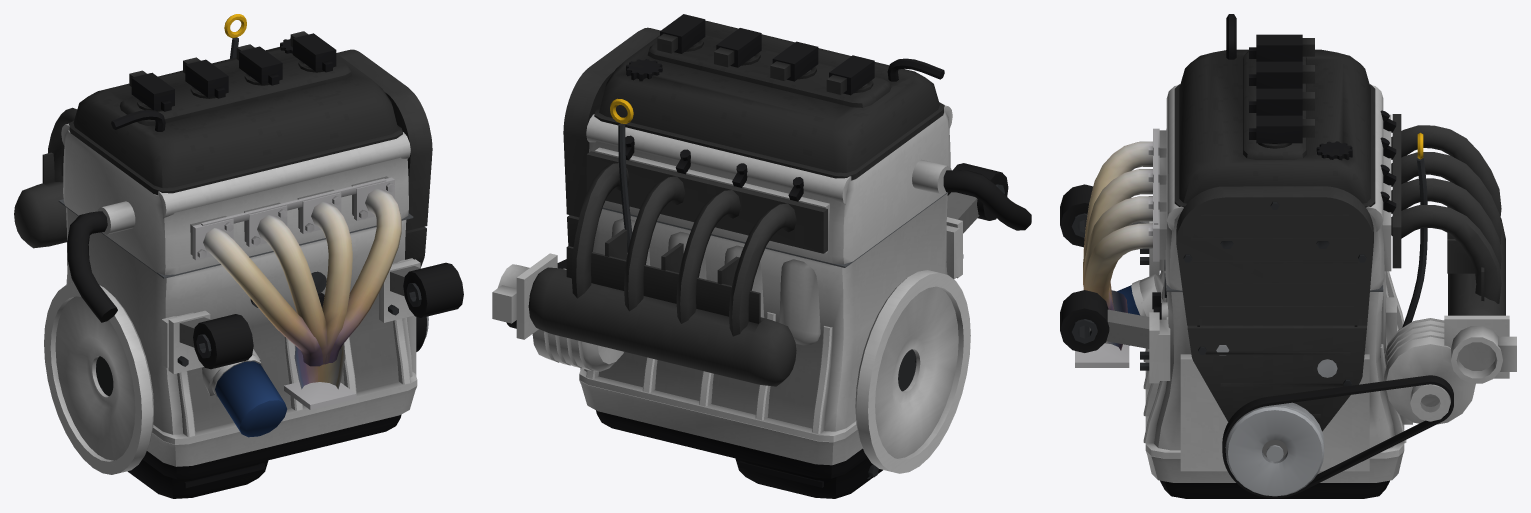
File: engine-lo-v1.glb
3 views of the same model, side by side, from view 1: azimuth 30°, elevation 25°; view 2: azimuth 150°, elevation 25°; view 3: azimuth 270°, elevation 25° (orthographic). The views are drawn at different scales.
Visible parts, largest first — view 1: valve_cover, block, exhaust_manifold, head, flywheel, oil_pan, timing_cover, mount_rear, intake_manifold, mount_front, oil_filter, coolant_hose (+7 smaller); view 2: intake_manifold, block, valve_cover, head, flywheel, oil_pan, timing_cover, coolant_hose, alternator, mount_rear, coil_3, coil_1 (+3 smaller); view 3: timing_cover, valve_cover, intake_manifold, block, exhaust_manifold, crank_pulley, alternator, head, oil_pan, mount_front, accessory_belt, mount_rear (+6 smaller).
Boxes of the visible parts, box(x1,y1,x2,y2) form: valve_cover: box(69, 38, 402, 195); block: box(66, 207, 417, 444); exhaust_manifold: box(192, 177, 401, 409); head: box(61, 123, 410, 274); flywheel: box(44, 283, 153, 474); oil_pan: box(127, 386, 416, 498); timing_cover: box(336, 49, 432, 267); mount_rear: box(168, 310, 253, 374); intake_manifold: box(14, 107, 77, 248); mount_front: box(379, 259, 463, 322); oil_filter: box(211, 355, 287, 437); coolant_hose: box(67, 211, 117, 322); intake_manifold: box(492, 151, 827, 386); block: box(579, 193, 959, 441); valve_cover: box(594, 20, 944, 180); head: box(586, 105, 952, 264); flywheel: box(855, 270, 970, 473); oil_pan: box(579, 380, 882, 498); timing_cover: box(563, 27, 660, 247); coolant_hose: box(943, 170, 1031, 230); alternator: box(532, 268, 623, 371); mount_rear: box(946, 163, 1008, 278); coil_3: box(770, 41, 818, 81); coil_1: box(657, 14, 705, 53); timing_cover: box(1176, 186, 1373, 431); valve_cover: box(1174, 14, 1375, 207); intake_manifold: box(1391, 114, 1516, 383); block: box(1139, 259, 1406, 471); exhaust_manifold: box(1075, 128, 1159, 367); crank_pulley: box(1225, 402, 1324, 496); alternator: box(1384, 318, 1475, 424); head: box(1159, 85, 1391, 290); oil_pan: box(1146, 451, 1403, 498); mount_front: box(1060, 290, 1159, 383); accessory_belt: box(1222, 375, 1453, 498); mount_rear: box(1060, 184, 1159, 276).
Size of the model in its own units: 0.6079 by 0.596 by 0.629.
18 materials, 5 textured.
